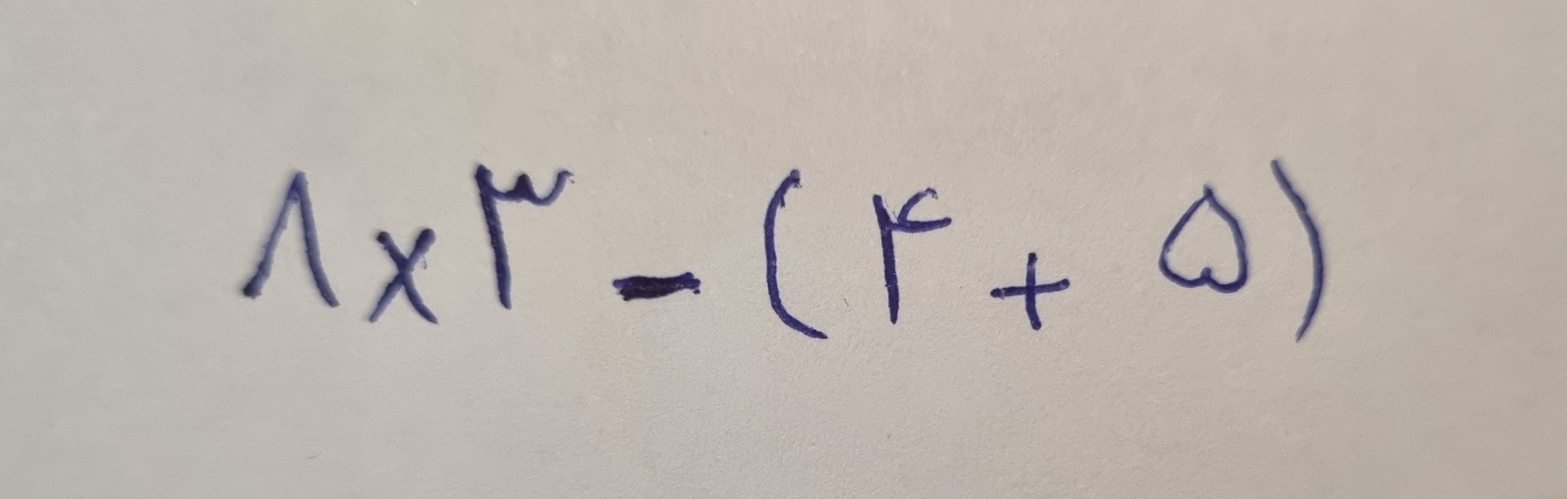character: (239, 169, 342, 310), (472, 164, 571, 310), (763, 166, 830, 343), (871, 186, 954, 325), (1266, 154, 1326, 343), (1159, 181, 1251, 295), (365, 228, 440, 325), (989, 250, 1071, 333), (609, 271, 703, 303)
